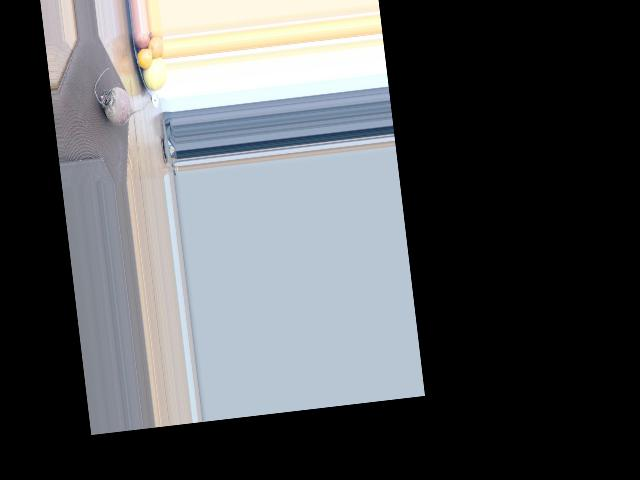beet: (91, 63, 149, 128)
